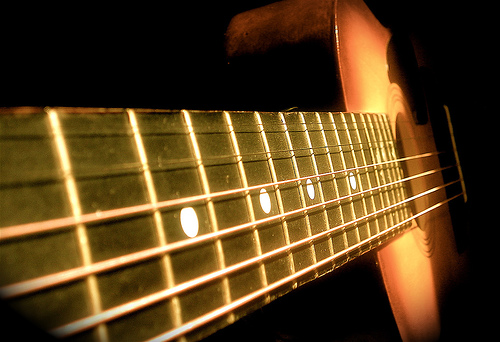guitar: (1, 1, 473, 342)
